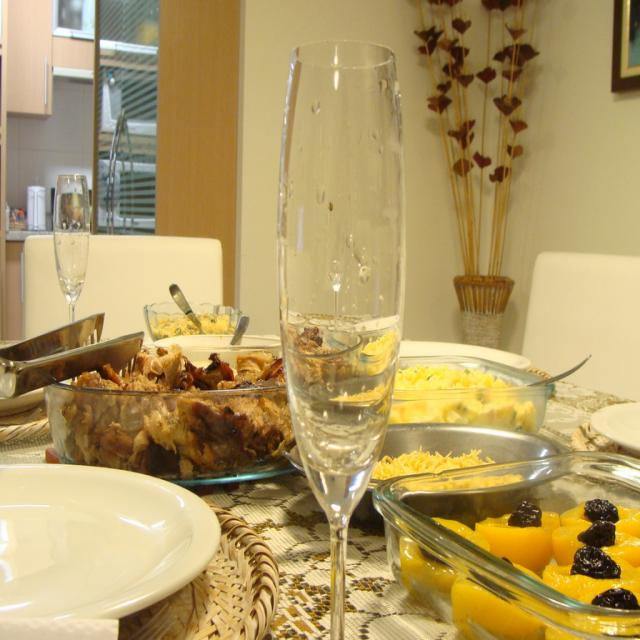non-organic waste: (0, 448, 223, 640)
